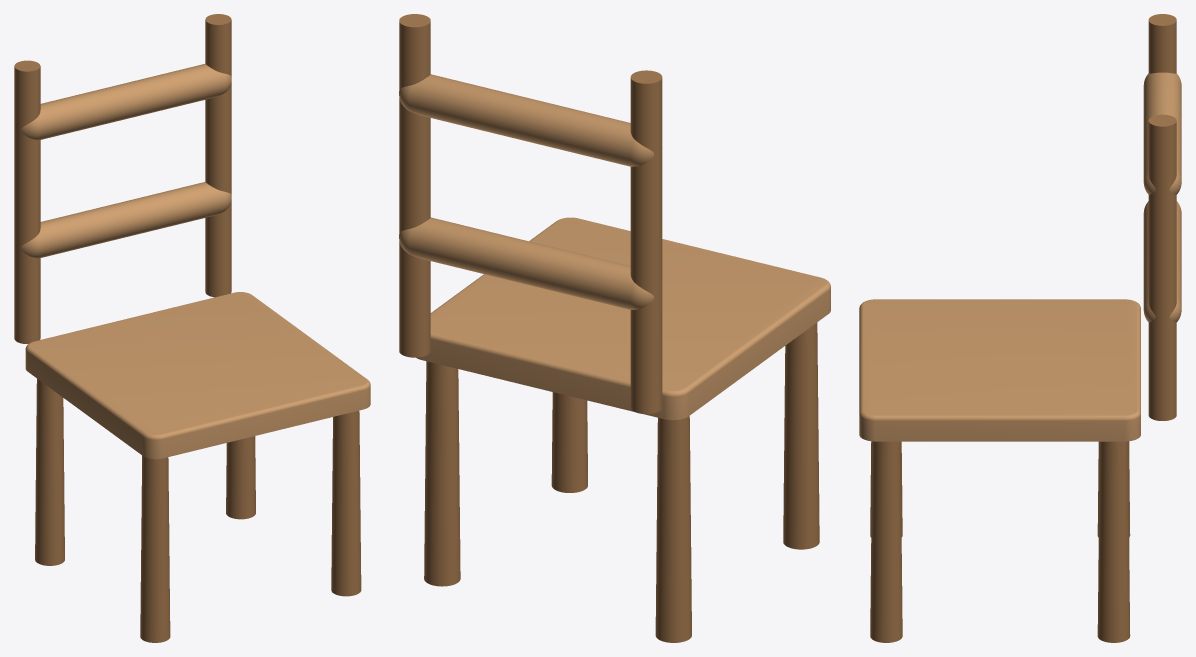
Rendered from chair.glb.
3 renders of one model, left to right at view 1: azimuth 30°, elevation 25°; view 2: azimuth 150°, elevation 25°; view 3: azimuth 270°, elevation 25°, orthographic. The views are drawn at different scales.
Parts seen in each view (by area): view 1: seat, rail.002, rail.001, post.001, post.002, leg.001, leg.002, leg.003, leg.004; view 2: seat, post.001, rail.002, rail.001, post.002, leg.003, leg.004, leg.001, leg.002; view 3: seat, post.002, leg.002, leg.004, rail.002, post.001, rail.001.
Boxes of the visible parts, x1=… form: seat: x1=25, y1=292, x2=370, y2=459; rail.002: x1=21, y1=64, x2=231, y2=139; rail.001: x1=21, y1=182, x2=231, y2=258; post.001: x1=14, y1=60, x2=40, y2=343; post.002: x1=205, y1=14, x2=231, y2=297; leg.001: x1=140, y1=455, x2=170, y2=642; leg.002: x1=331, y1=410, x2=361, y2=596; leg.003: x1=35, y1=379, x2=64, y2=565; leg.004: x1=226, y1=436, x2=255, y2=519; seat: x1=416, y1=217, x2=830, y2=420; post.001: x1=630, y1=70, x2=662, y2=414; rail.002: x1=399, y1=74, x2=654, y2=166; rail.001: x1=399, y1=217, x2=654, y2=309; post.002: x1=399, y1=14, x2=430, y2=357; leg.003: x1=655, y1=416, x2=691, y2=642; leg.004: x1=424, y1=361, x2=460, y2=586; leg.001: x1=783, y1=322, x2=819, y2=549; leg.002: x1=551, y1=392, x2=587, y2=492; seat: x1=859, y1=299, x2=1140, y2=441; post.002: x1=1148, y1=114, x2=1176, y2=420; leg.002: x1=870, y1=441, x2=902, y2=642; leg.004: x1=1097, y1=441, x2=1130, y2=642; rail.002: x1=1143, y1=72, x2=1181, y2=194; post.001: x1=1148, y1=14, x2=1176, y2=73; rail.001: x1=1143, y1=201, x2=1181, y2=322.
Size of the model in its own units: 0.52 by 1.05 by 0.595.
